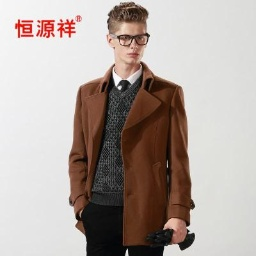face: (105, 2, 149, 66)
